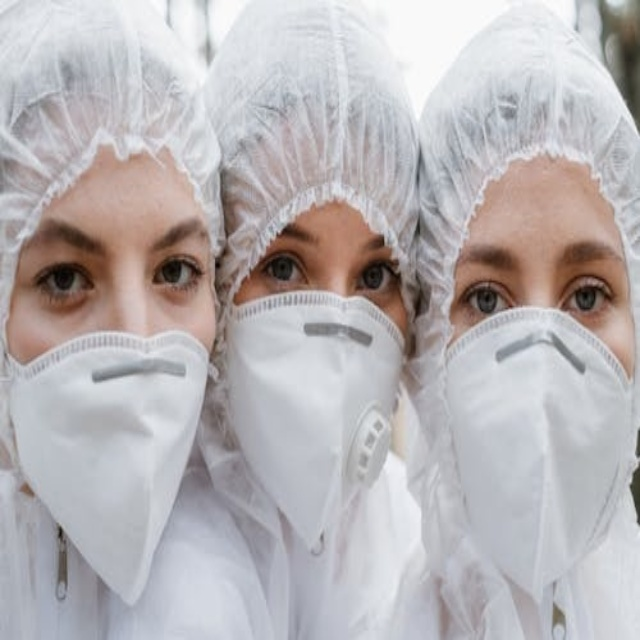Mascara: (436, 305, 634, 601), (6, 325, 213, 607), (221, 290, 406, 554)
Sin_gafas: (13, 208, 211, 306), (456, 238, 630, 332), (243, 215, 401, 309)
